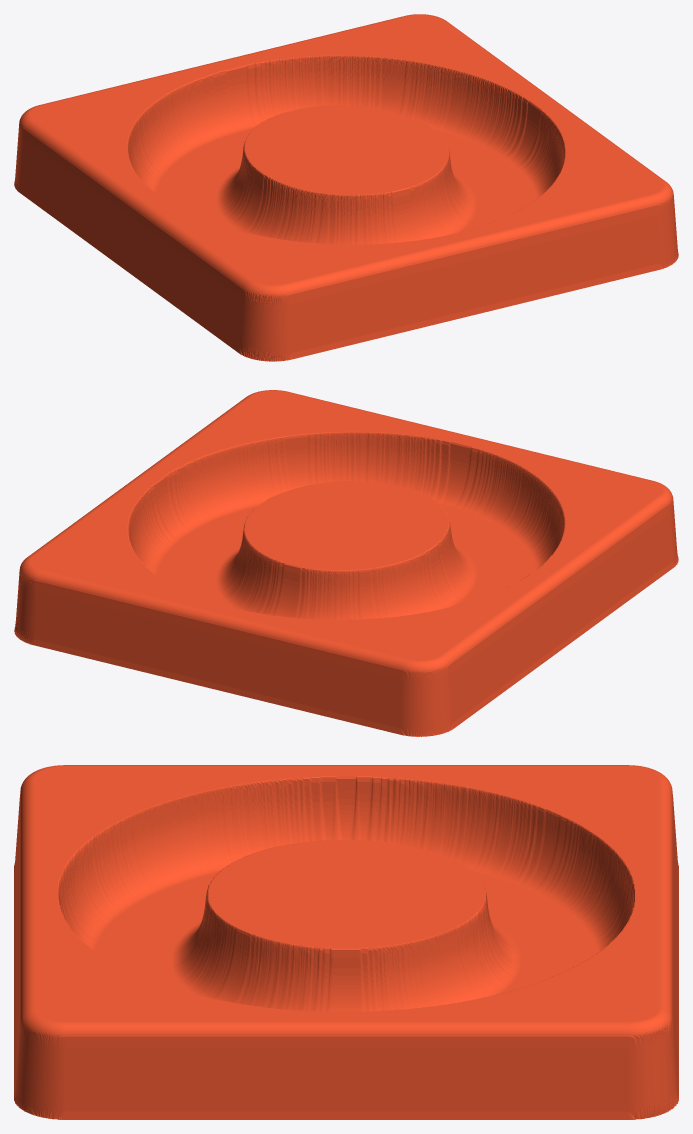
File: mold.glb
The picture shows the model from 3 angles, top to bottom: view 1: azimuth 30°, elevation 25°; view 2: azimuth 150°, elevation 25°; view 3: azimuth 270°, elevation 25°; orthographic projection. The views are drawn at different scales.
Visible parts, largest first — view 1: geometry_0; view 2: geometry_0; view 3: geometry_0.
Part boxes in pixels (box(x1,y1,x2,y2)): geometry_0: box(14, 14, 678, 361); geometry_0: box(14, 390, 678, 736); geometry_0: box(14, 765, 678, 1119).
Bounding box in the file's own units: 0.1142 × 0.0175 × 0.1178.
